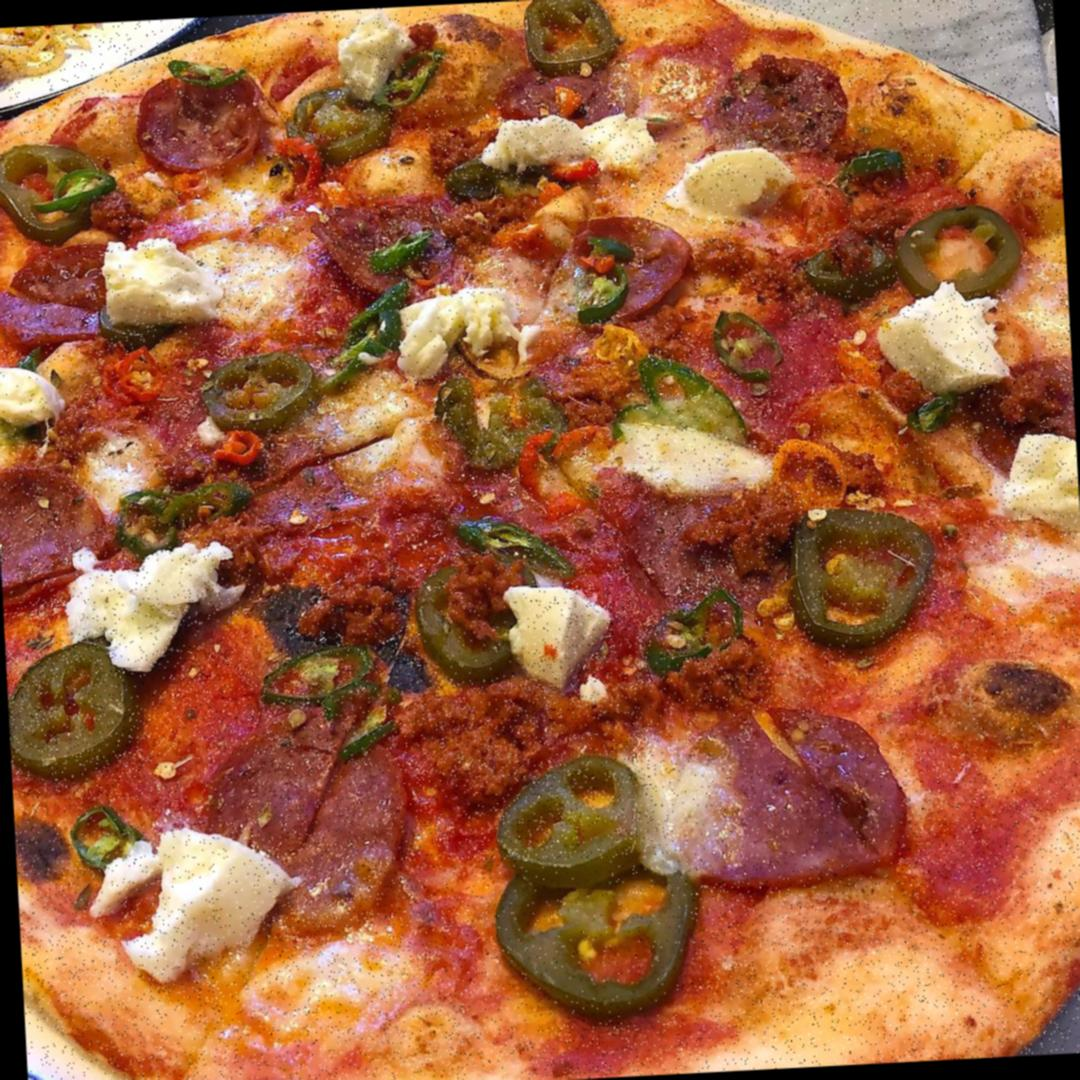Cheese: (89, 820, 276, 986), (73, 557, 223, 673), (882, 300, 1014, 400), (678, 143, 808, 229), (406, 294, 540, 370), (524, 589, 616, 683), (103, 247, 214, 317), (490, 118, 636, 168), (1008, 436, 1080, 527), (334, 21, 398, 90), (0, 360, 69, 424)
Ham: (672, 698, 906, 884), (206, 726, 415, 904), (138, 72, 280, 186), (324, 198, 474, 299), (0, 466, 116, 592), (574, 214, 696, 322), (711, 48, 842, 148), (0, 240, 108, 351)
Olives: (445, 158, 505, 209)
Peppers: (494, 853, 696, 1029), (786, 504, 942, 656), (5, 632, 142, 784), (500, 766, 656, 872), (419, 562, 534, 680), (622, 358, 756, 458), (437, 376, 564, 465), (898, 208, 1024, 295), (0, 138, 102, 241), (120, 481, 262, 541), (201, 356, 318, 421), (262, 644, 374, 708), (523, 0, 613, 74), (807, 226, 893, 302), (650, 586, 746, 654), (702, 304, 786, 372), (771, 435, 851, 506), (296, 85, 388, 146), (59, 808, 156, 860), (102, 352, 174, 403), (526, 428, 569, 510), (373, 49, 433, 99), (916, 386, 964, 448), (848, 138, 898, 187), (215, 431, 264, 470)
Pizza: (0, 0, 1080, 1080)
